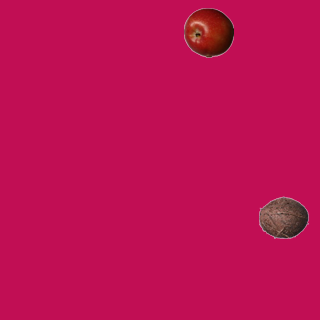Apple Braeburn: (183, 7, 233, 57)
Cocos: (258, 192, 308, 242)
